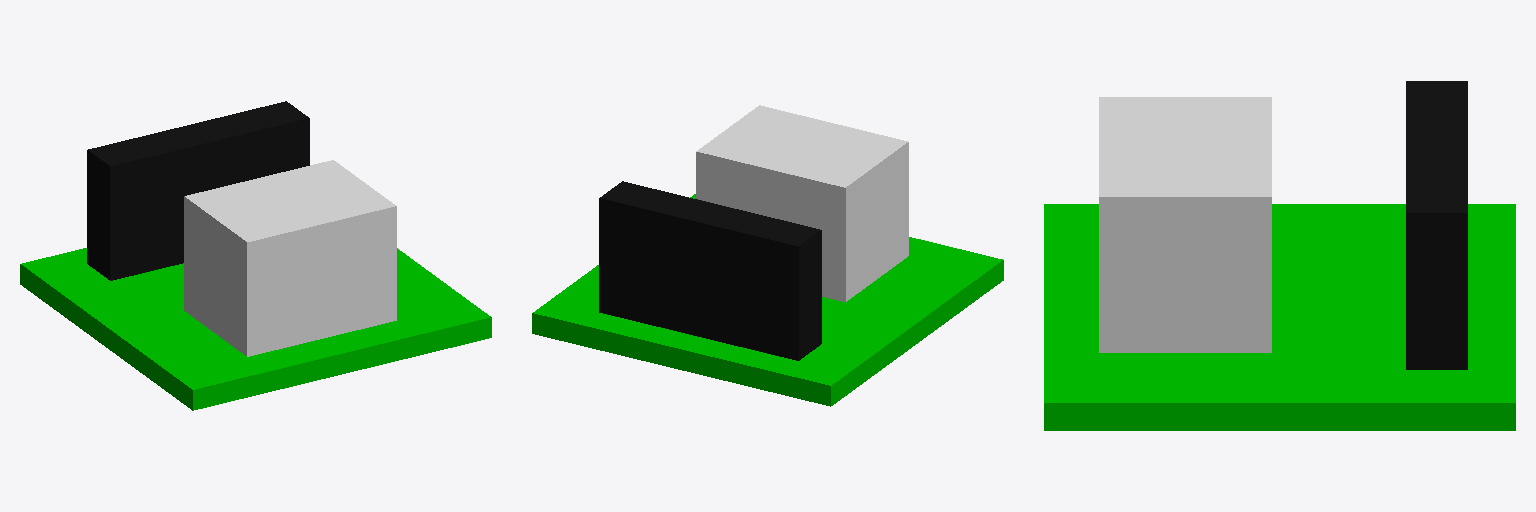
The robot description file, URDF, robot "adis16470":
<?xml version="1.0"?>
<robot name="adis16470">
  <link name="imu">
    <visual>
      <origin rpy="0 0 0" xyz="0 0 0"/>
      <geometry>
        <box size="0.03 0.03 0.002"/>
      </geometry>
      <material name="green">
        <color rgba="0.0 0.8 0.0 1.0"/>
      </material>
    </visual>
    <visual>
      <origin rpy="0 0 0" xyz="0 -0.006 0.006"/>
      <geometry>
        <box size="0.015 0.011 0.012"/>
      </geometry>
      <material name="white">
        <color rgba="0.9 0.9 0.9 1.0"/>
      </material>
    </visual>
    <visual>
      <origin rpy="0 0 0" xyz="0 0.01 0.006"/>
      <geometry>
        <box size="0.020 0.004 0.012"/>
      </geometry>
      <material name="black">
        <color rgba="0.1 0.1 0.1 1.0"/>
      </material>
    </visual>
  </link>
</robot>

--- Render facts (derived) ---
3 views of the same robot in one strip: view 1: azimuth 30°, elevation 25°; view 2: azimuth 150°, elevation 25°; view 3: azimuth 270°, elevation 25° (orthographic).
Robot: adis16470 — 1 links, 0 joints (none); root link imu; default pose: every joint at zero.
Visible links, largest first — view 1: imu; view 2: imu; view 3: imu.
Boxes of the visible links, x1=… form: imu: x1=20, y1=101, x2=491, y2=410; imu: x1=532, y1=105, x2=1003, y2=406; imu: x1=1044, y1=81, x2=1515, y2=430.
Bounding box of the posed robot: 0.03 × 0.03 × 0.013 m (x, y, z).
Geometry: primitives only (box / cylinder / sphere), no mesh files.